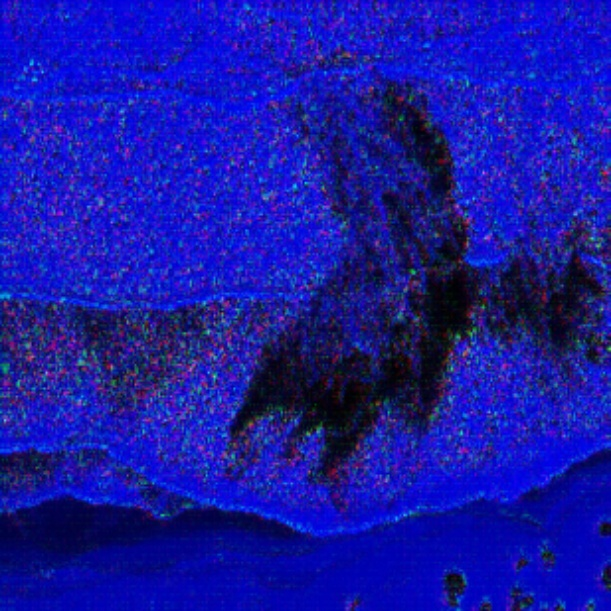rip_current: (196, 46, 496, 484)
